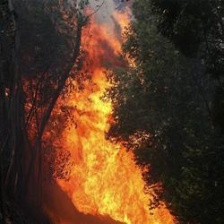fire: (21, 20, 176, 223)
